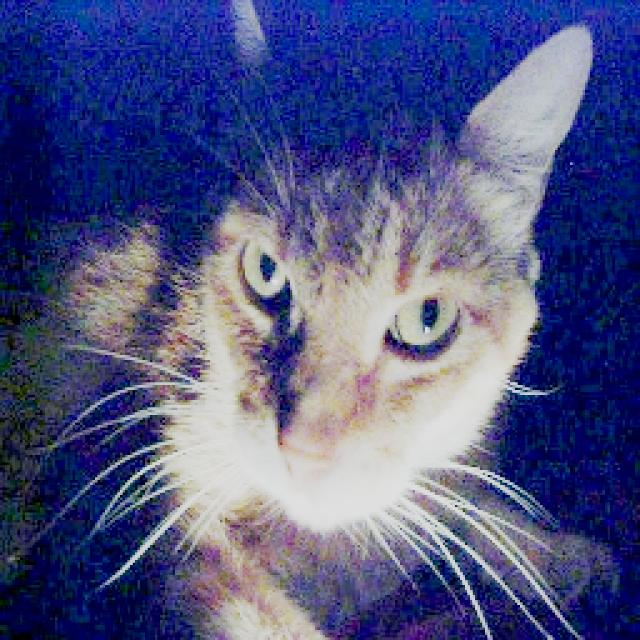cat: (28, 4, 597, 640)
